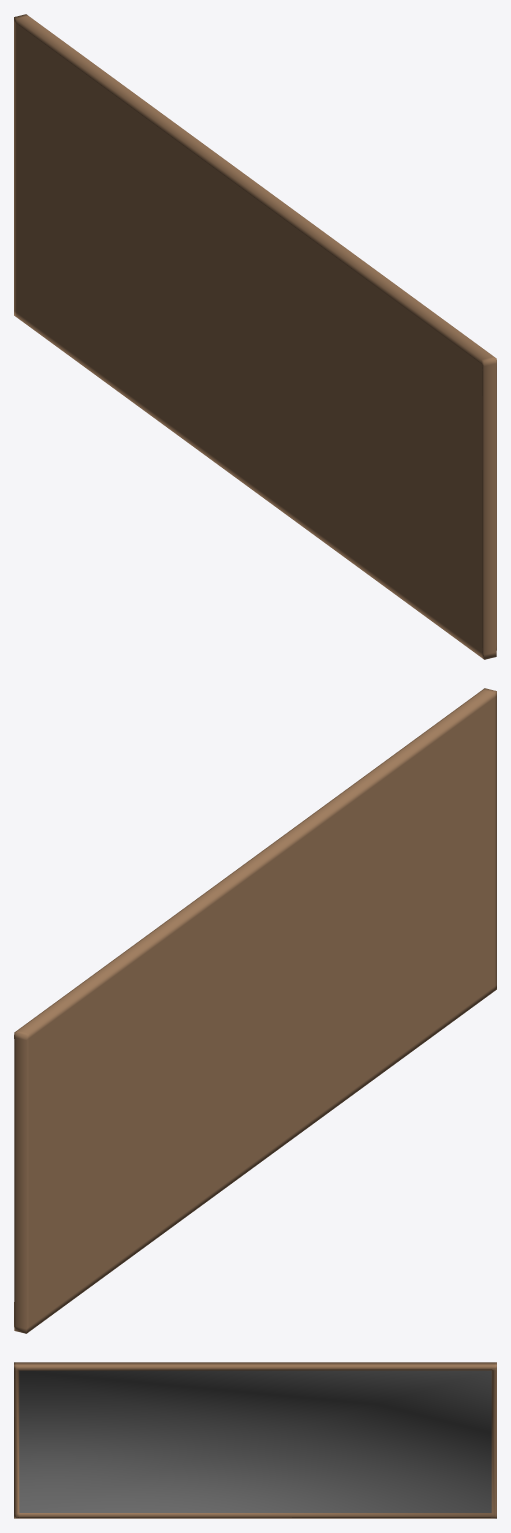
Rendered from WideFrame.fbx.
3 views of the same model, one above another, from view 1: azimuth 30°, elevation 25°; view 2: azimuth 150°, elevation 25°; view 3: azimuth 270°, elevation 25° (orthographic). The views are drawn at different scales.
Parts seen in each view (by area): view 1: Cube; view 2: Cube; view 3: Cube.
Part boxes in pixels (left/top/right/bottom): Cube: left=14, top=14, right=496, bottom=659; Cube: left=14, top=688, right=496, bottom=1333; Cube: left=14, top=1362, right=496, bottom=1518.
Bounding box in the file's own units: 27.96 × 529 × 1512.
